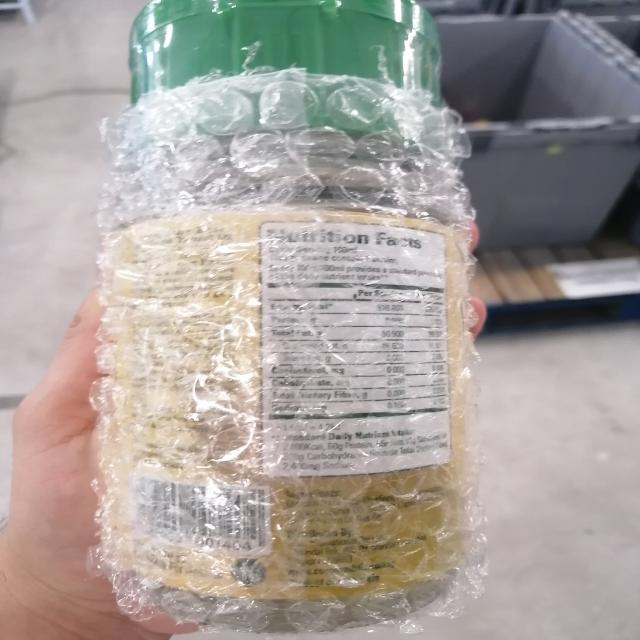object_name: (132, 18, 451, 611)
